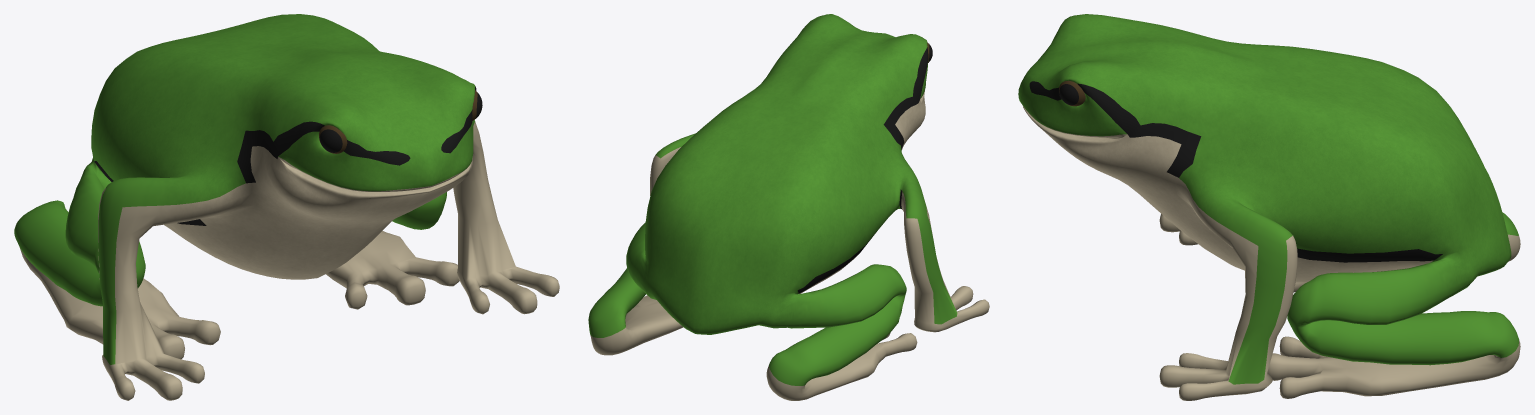
File: frog.fbx
3 renders of one model, left to right at view 1: azimuth 30°, elevation 25°; view 2: azimuth 150°, elevation 25°; view 3: azimuth 270°, elevation 25°, orthographic. The views are drawn at different scales.
Visible parts, largest first — view 1: 立方体, 球; view 2: 立方体; view 3: 立方体, 球.
Boxes of the visible parts, left/top/right/bottom form: 立方体: left=14, top=14, right=559, bottom=400; 球: left=319, top=90, right=482, bottom=153; 立方体: left=588, top=14, right=989, bottom=400; 立方体: left=1018, top=14, right=1520, bottom=400; 球: left=1059, top=80, right=1085, bottom=106.
Size of the model in its own units: 313 by 218 by 346.
4 materials, 2 textured.
